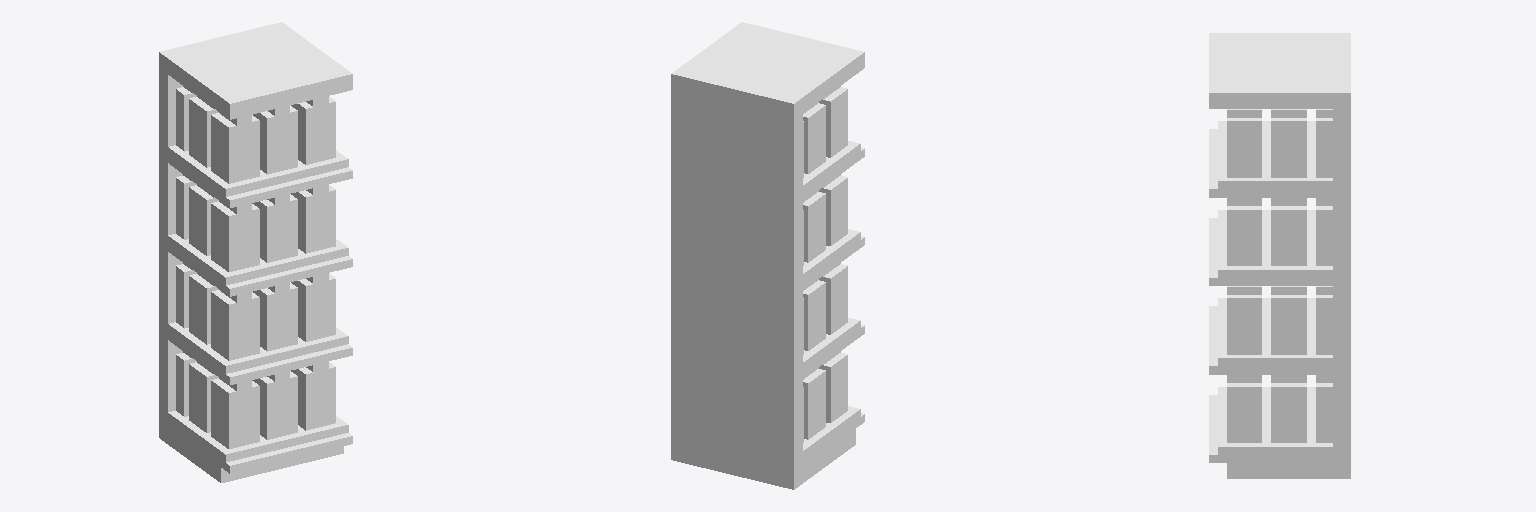
Rendered from fullMilkShelf.obj.
3 renders of one model, left to right at view 1: azimuth 30°, elevation 25°; view 2: azimuth 150°, elevation 25°; view 3: azimuth 270°, elevation 25°, orthographic.
Visible parts, largest first — view 1: object 1; view 2: object 1; view 3: object 1.
Boxes of the visible parts, x1,y1,x2,y2 form: object 1: [159, 22, 352, 482]; object 1: [671, 22, 864, 489]; object 1: [1209, 33, 1350, 478].
Bounding box in the file's own units: 1.6 × 4.8 × 1.6.